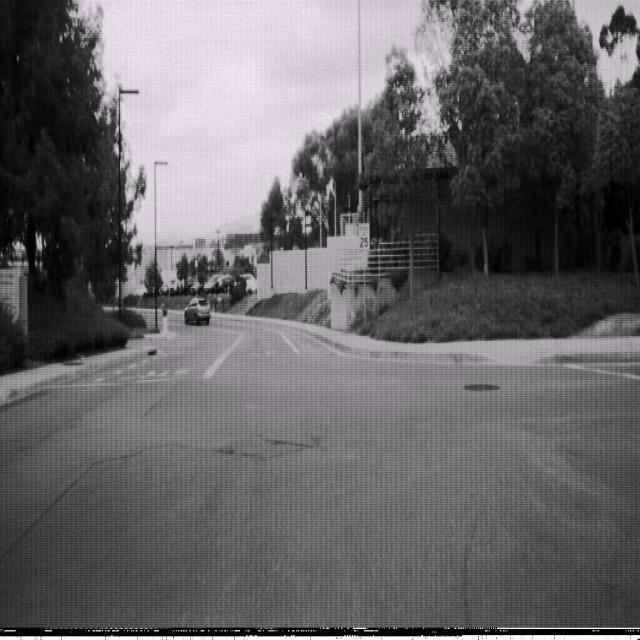speedLimit25: (358, 222, 370, 251)
